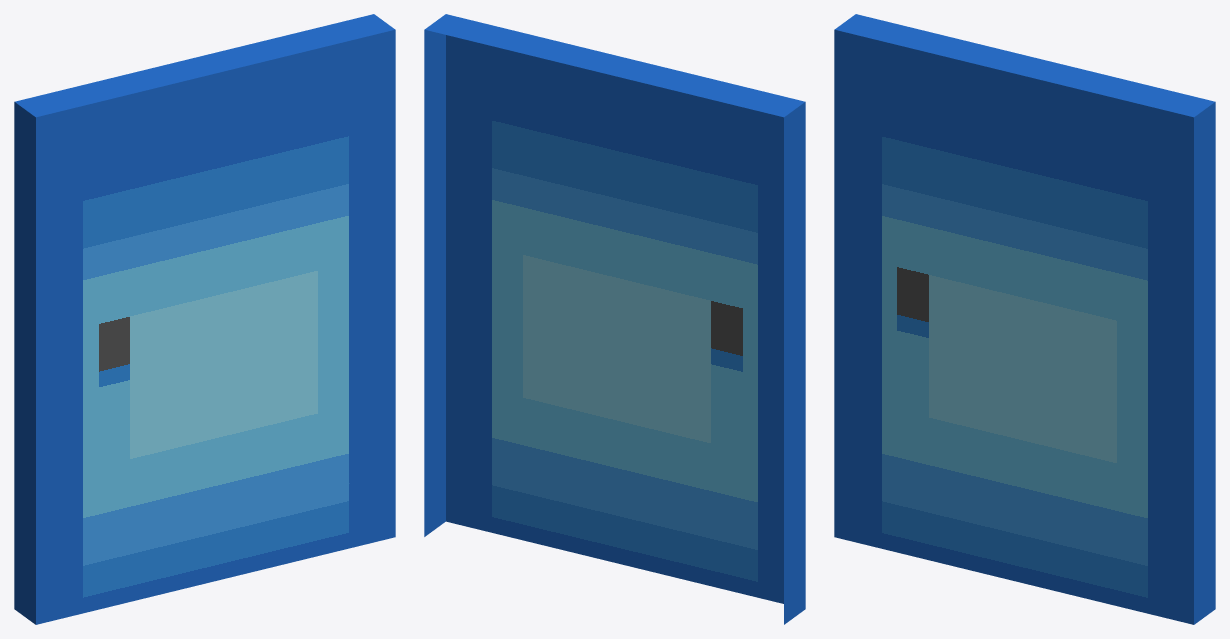
The model's file is Door1.fbx.
The picture shows the model from 3 angles, left to right: view 1: azimuth 30°, elevation 25°; view 2: azimuth 150°, elevation 25°; view 3: azimuth 330°, elevation 25°; orthographic projection.
Parts seen in each view (by area): view 1: polygon0; view 2: polygon0; view 3: polygon0.
Boxes of the visible parts, left/top/right/bottom form: polygon0: left=14, top=14, right=395, bottom=624; polygon0: left=424, top=14, right=805, bottom=624; polygon0: left=834, top=14, right=1215, bottom=624.
Bounding box in the file's own units: 2.5 × 3.37 × 0.2576.
